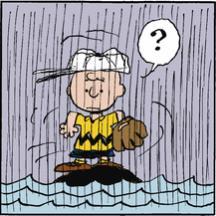charlie: (54, 45, 148, 171)
